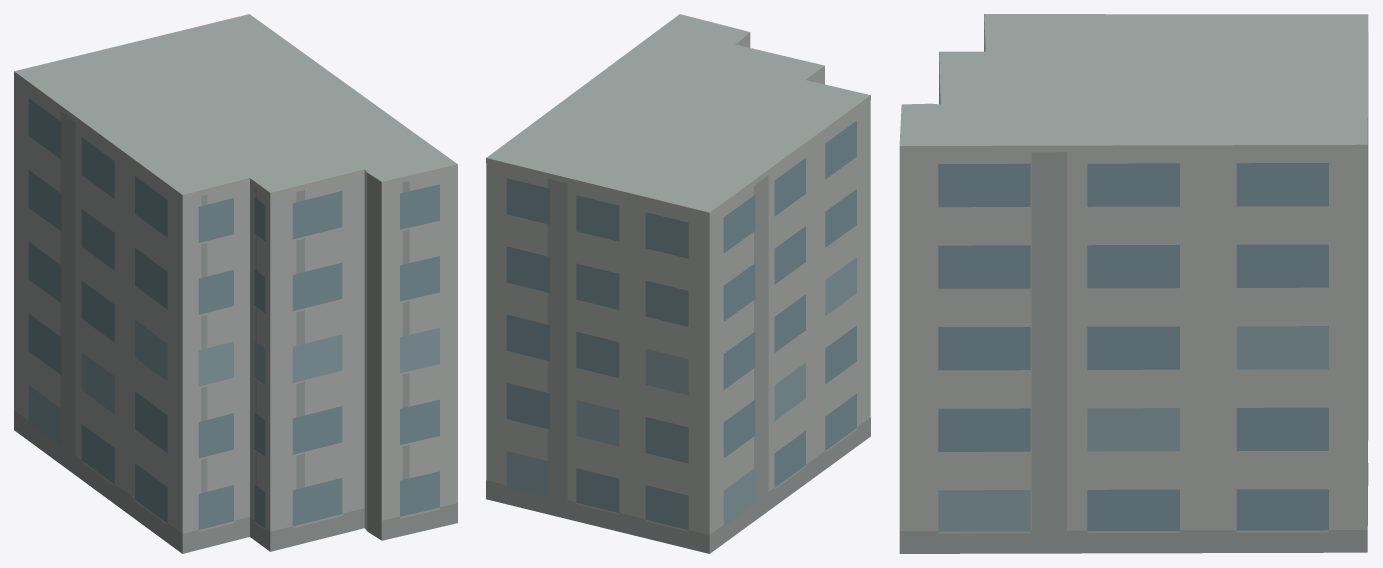
File: survey-upis-33005512.glb
3 views of the same model, side by side, from view 1: azimuth 30°, elevation 25°; view 2: azimuth 150°, elevation 25°; view 3: azimuth 270°, elevation 25° (orthographic). The views are drawn at different scales.
Visible parts, largest first — view 1: survey-upis-33005512.tmp; view 2: survey-upis-33005512.tmp; view 3: survey-upis-33005512.tmp.
Boxes of the visible parts, x1,y1,x2,y2 form: survey-upis-33005512.tmp: (14, 14, 457, 553); survey-upis-33005512.tmp: (486, 14, 870, 553); survey-upis-33005512.tmp: (899, 14, 1368, 553).
Size of the model in its own units: 10.57 by 15.2 by 15.85.
